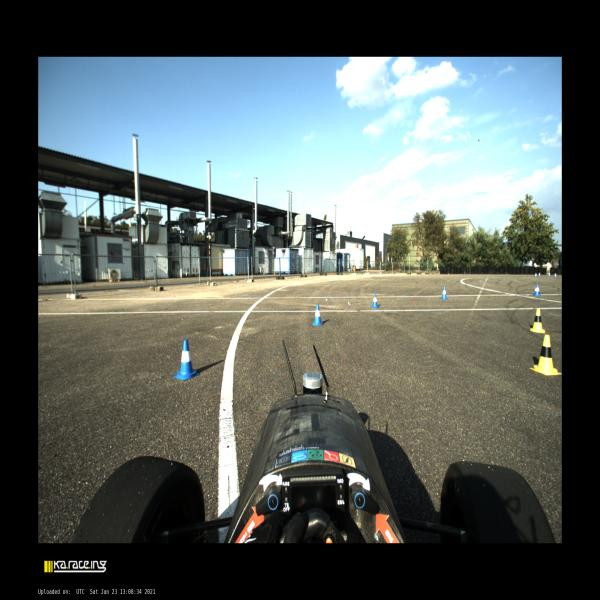blue_cone: (174, 340, 199, 380), (313, 304, 323, 326), (371, 293, 379, 308), (533, 284, 541, 296), (441, 286, 448, 299)
yellow_cone: (530, 334, 561, 375), (530, 308, 545, 333)
